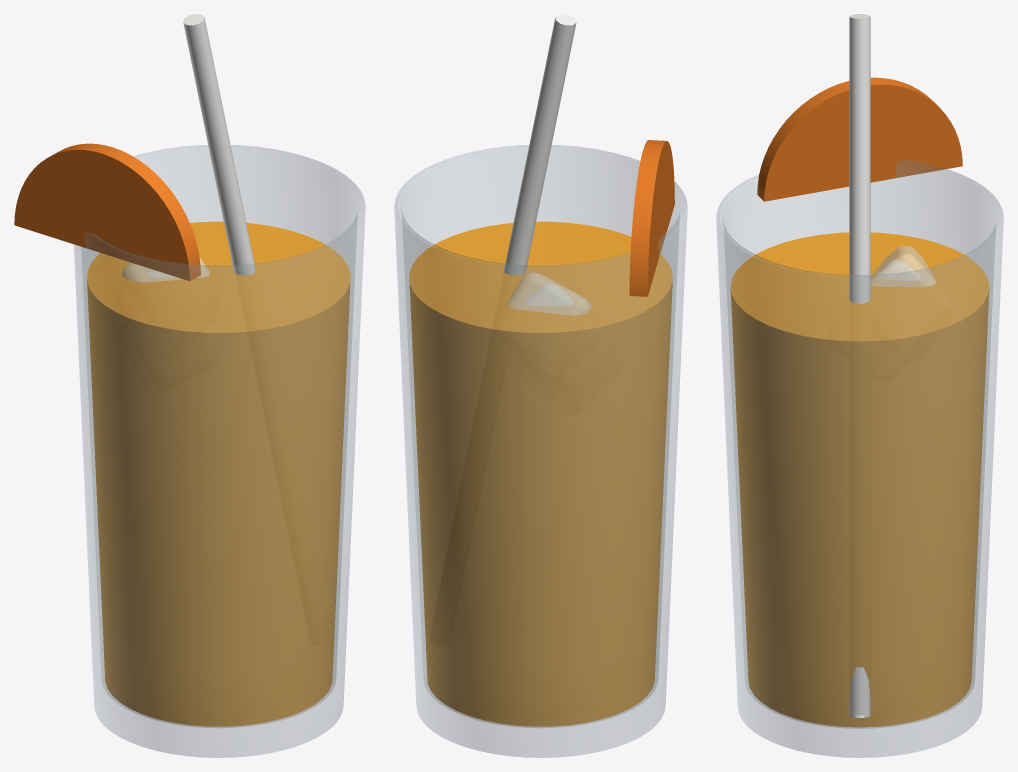
File: suco.glb
3 renders of one model, left to right at view 1: azimuth 30°, elevation 25°; view 2: azimuth 150°, elevation 25°; view 3: azimuth 270°, elevation 25°, orthographic. The views are drawn at different scales.
Visible parts, largest first — view 1: suco; view 2: suco; view 3: suco.
Part boxes in pixels (x1,y1,x2,y2): suco: [14, 14, 365, 757]; suco: [394, 14, 687, 757]; suco: [716, 14, 1003, 757].
Size of the model in its own units: 0.089 by 0.2086 by 0.08.
